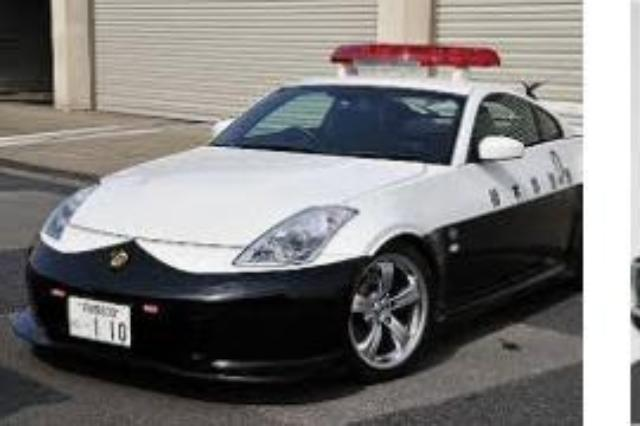police: (25, 40, 582, 396)
